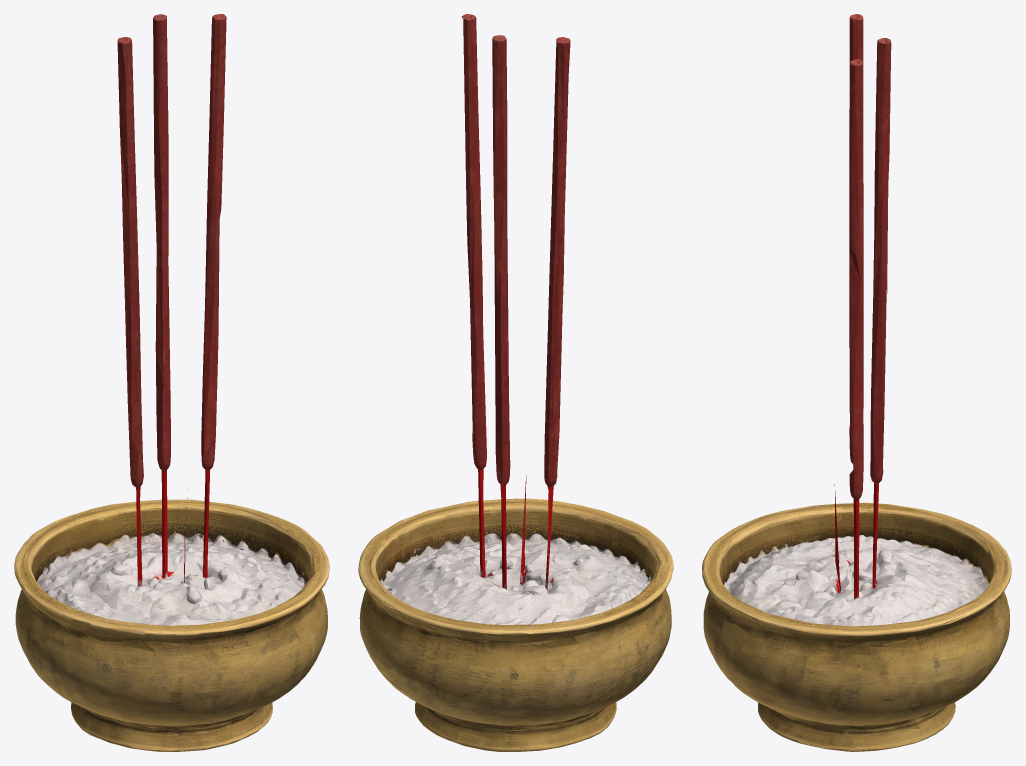
The model's file is w51incense.glb.
3 renders of one model, left to right at view 1: azimuth 30°, elevation 25°; view 2: azimuth 150°, elevation 25°; view 3: azimuth 270°, elevation 25°, orthographic.
Parts seen in each view (by area): view 1: output_unwrapped; view 2: output_unwrapped; view 3: output_unwrapped.
Part boxes in pixels (x1,y1,x2,y2): output_unwrapped: (14,14,329,751); output_unwrapped: (358,14,673,751); output_unwrapped: (702,14,1011,751).
Bounding box in the file's own units: 0.1004 × 0.24 × 0.1002.
1 material, 1 textured.
